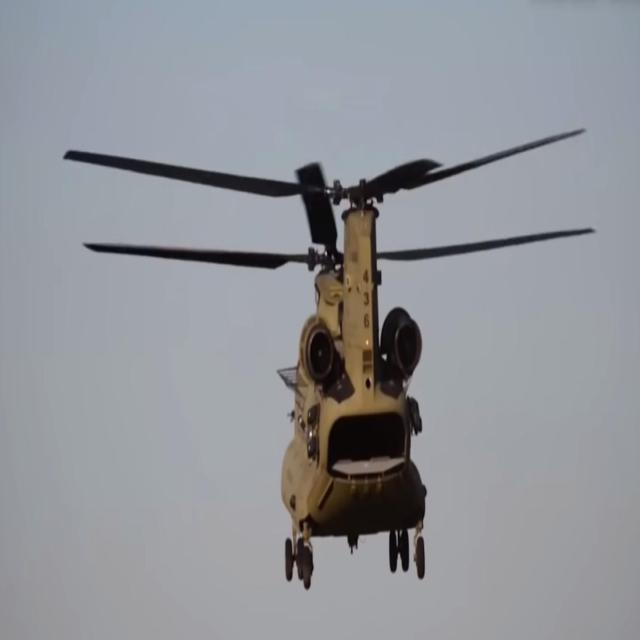Helicopter: (221, 144, 494, 597)
